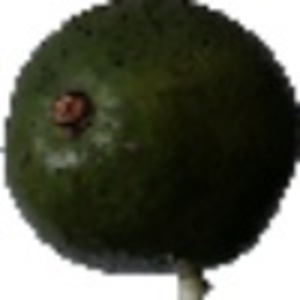abacate: (3, 2, 295, 269)
